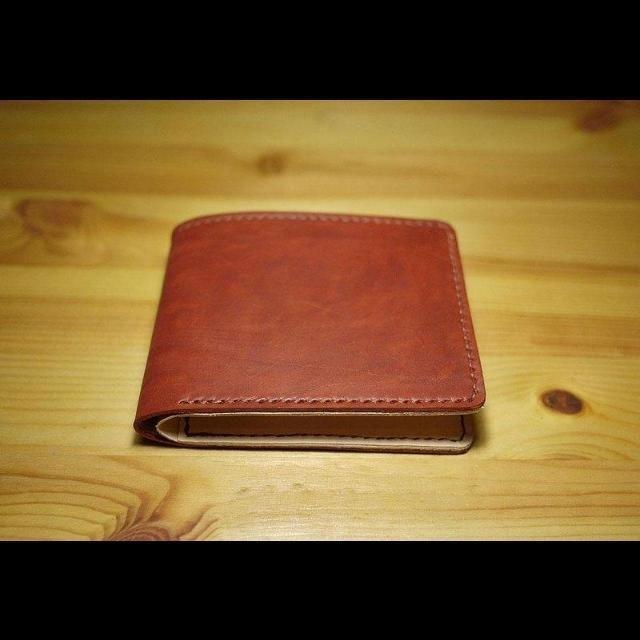Wallet: (130, 207, 488, 461)
